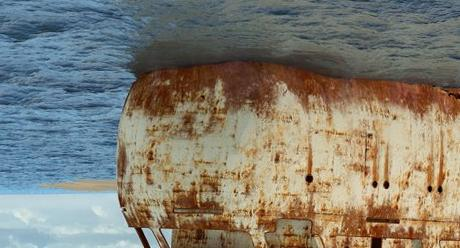rust: (130, 71, 460, 121), (116, 144, 232, 231), (260, 201, 376, 234), (369, 133, 389, 185), (426, 152, 448, 190), (305, 147, 319, 183)
